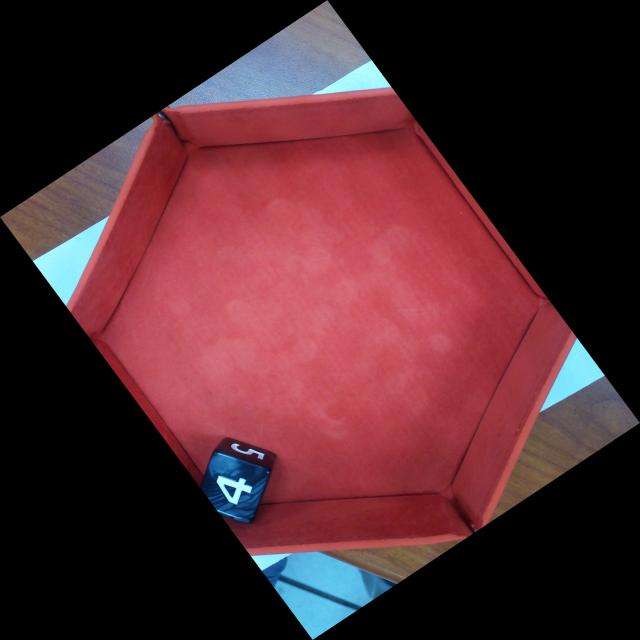dice: (201, 452, 270, 522)
